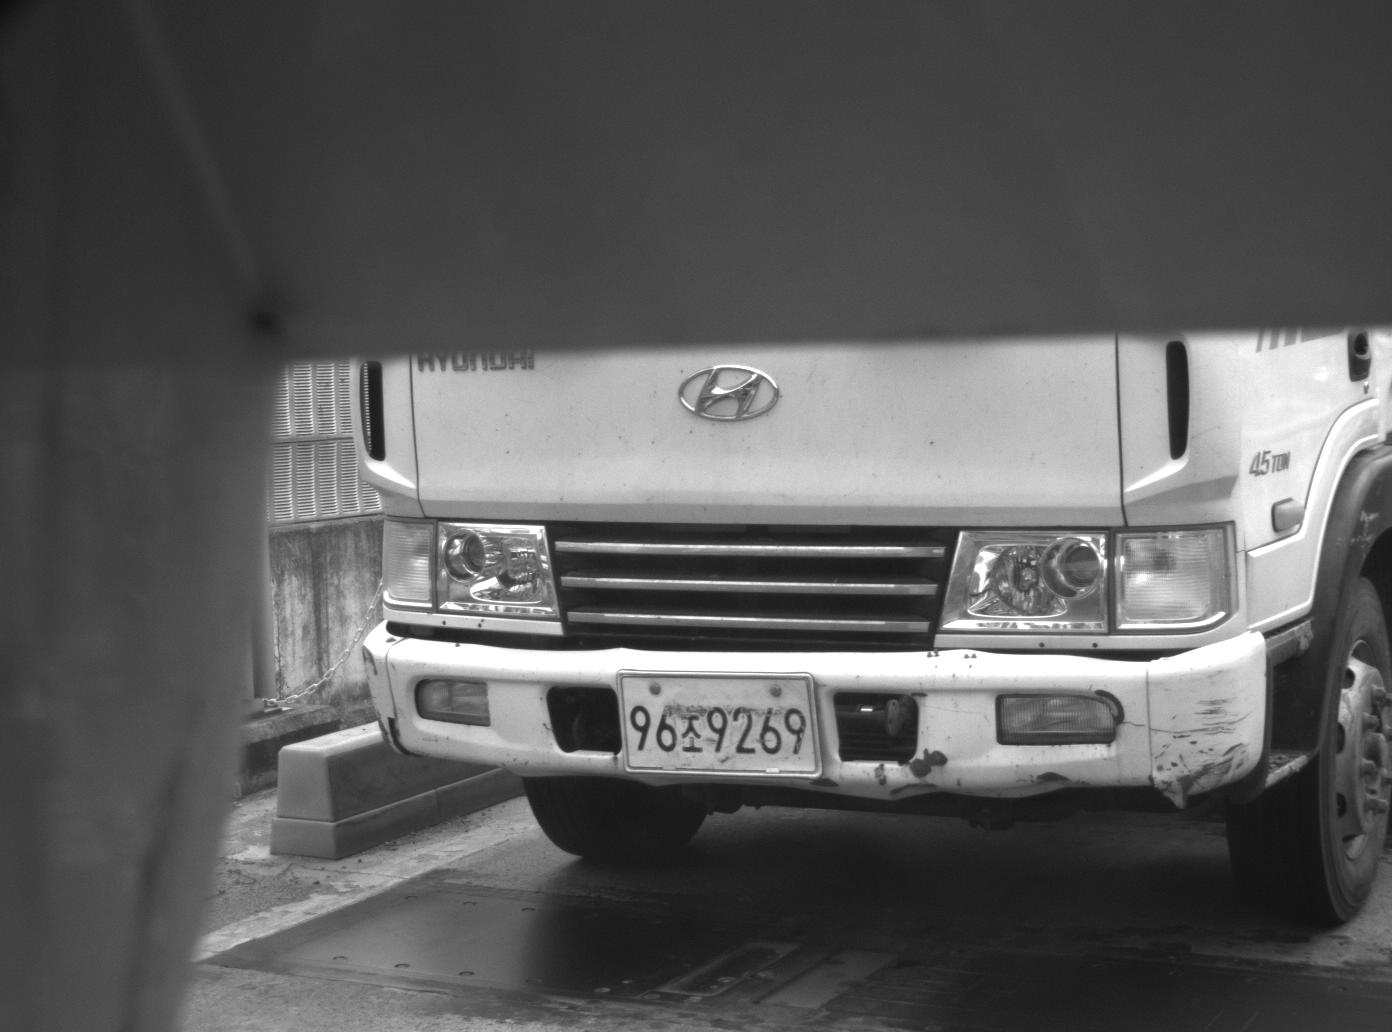car: (350, 358, 1390, 924)
plate: (615, 672, 822, 774)
